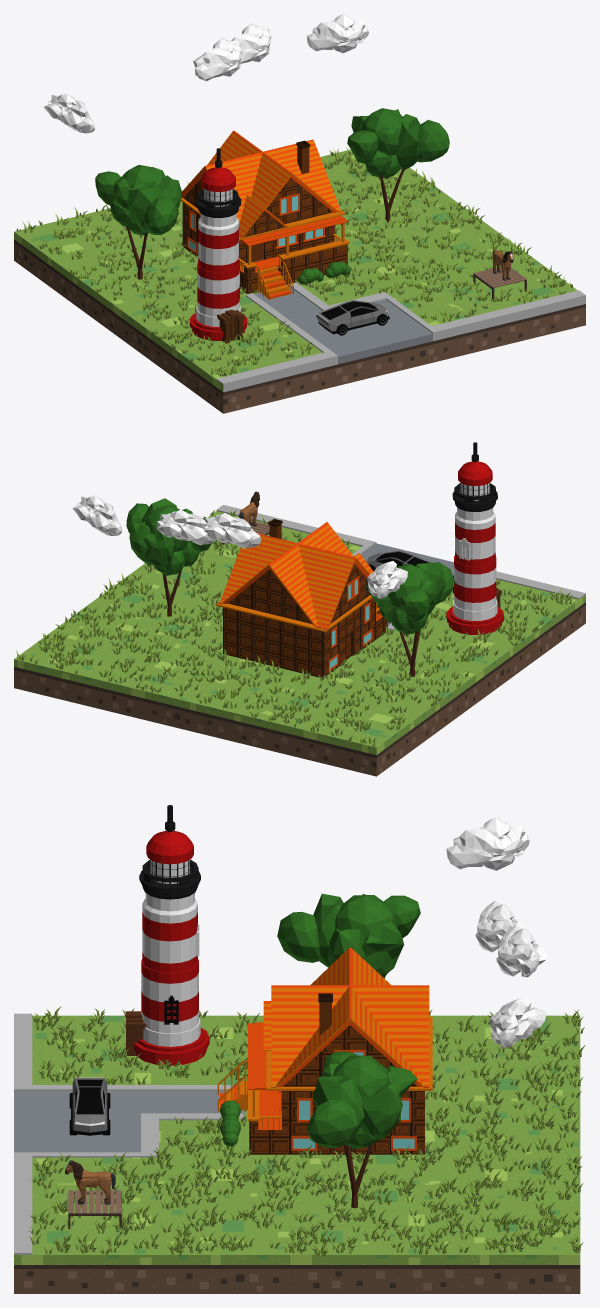
3 views of the same model, one above another, from view 1: azimuth 30°, elevation 25°; view 2: azimuth 150°, elevation 25°; view 3: azimuth 270°, elevation 25° (orthographic). The views are drawn at different scales.
Parts seen in each view (by area): view 1: Cube.006, Circle.012_Grass_0.192, Cube, OBJRANDOM_LIGHTHOUSE, Cube.007, tree, tree.001, VEHICLES_CYBERTRUCK, Cube.009; view 2: Cube.006, Cube, Circle.012_Grass_0.192, OBJRANDOM_LIGHTHOUSE, Cube.007, tree.001, tree, VEHICLES_CYBERTRUCK; view 3: Cube.006, Circle.012_Grass_0.192, Cube, OBJRANDOM_LIGHTHOUSE, tree, Cube.007, tree.001, VEHICLES_CYBERTRUCK, Cube.009, ANIMAL_CABALLO.
Boxes of the visible parts, x1,y1,x2,y2 form: Cube.006: (14, 149, 585, 413); Circle.012_Grass_0.192: (16, 147, 573, 376); Cube: (180, 130, 349, 300); OBJRANDOM_LIGHTHOUSE: (189, 148, 247, 343); Cube.007: (44, 14, 368, 133); tree: (347, 108, 449, 222); tree.001: (95, 165, 181, 279); VEHICLES_CYBERTRUCK: (316, 300, 389, 335); Cube.009: (473, 266, 526, 299); Cube.006: (14, 505, 585, 776); Cube: (215, 519, 387, 678); Circle.012_Grass_0.192: (16, 510, 572, 746); OBJRANDOM_LIGHTHOUSE: (446, 442, 503, 634); Cube.007: (72, 495, 407, 599); tree.001: (365, 562, 454, 676); tree: (126, 498, 211, 616); VEHICLES_CYBERTRUCK: (366, 550, 432, 571); Cube.006: (14, 1013, 580, 1293); Circle.012_Grass_0.192: (29, 1006, 585, 1256); Cube: (217, 947, 432, 1154); OBJRANDOM_LIGHTHOUSE: (126, 805, 209, 1065); tree: (307, 1051, 417, 1208); Cube.007: (446, 817, 546, 1048); tree.001: (277, 893, 420, 978); VEHICLES_CYBERTRUCK: (69, 1077, 110, 1135); Cube.009: (68, 1190, 121, 1229); ANIMAL_CABALLO: (65, 1160, 115, 1204).
Bounding box in the file's own units: 4071 × 2304 × 4040.
Materials: 36 (4 with a texture image).
